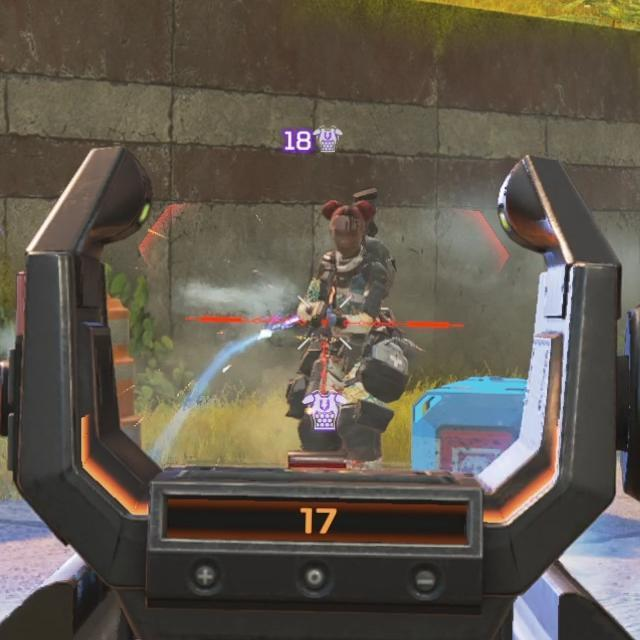avatar: (280, 195, 409, 454)
